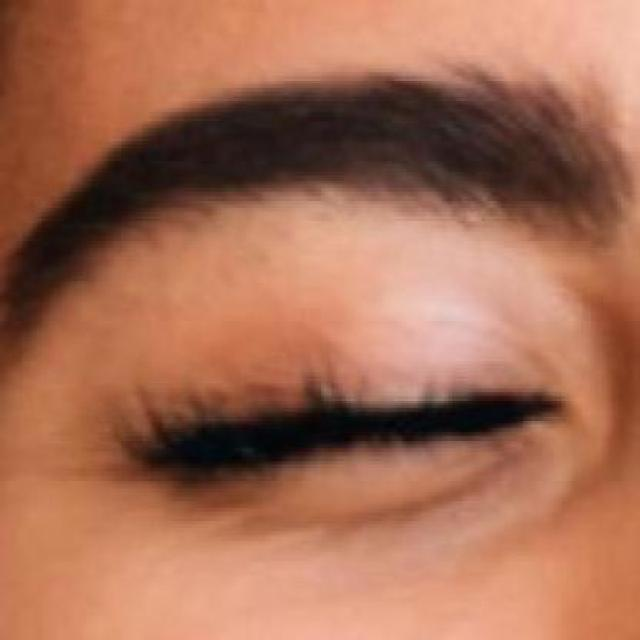drowsy: (110, 314, 564, 568)
